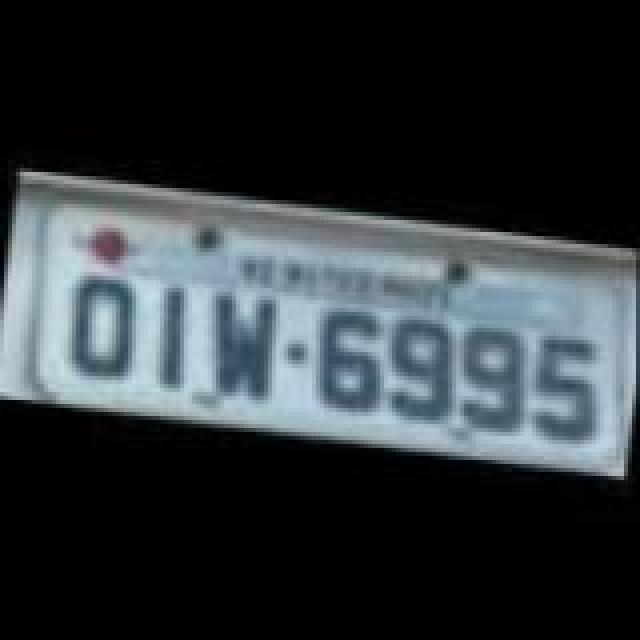1: (146, 278, 194, 386)
5: (524, 326, 604, 442)
6: (306, 304, 390, 416)
9: (448, 318, 536, 434), (372, 308, 452, 424)
O: (60, 266, 144, 382)
W: (196, 286, 280, 402)
